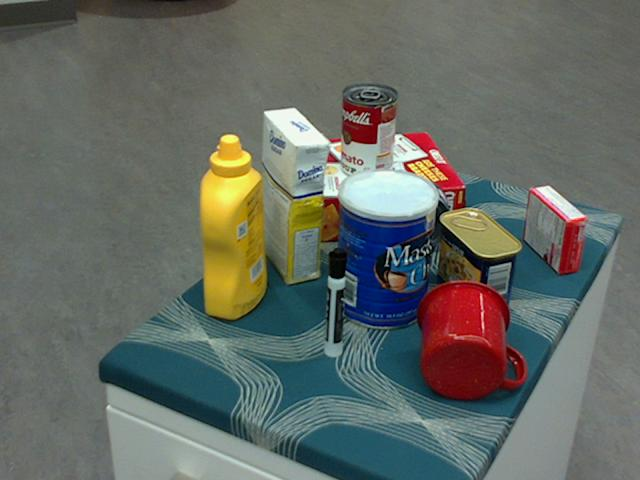cracker_box: (272, 131, 464, 247)
gelatin_box: (523, 185, 587, 274)
large_marker: (324, 247, 345, 359)
master_chef_can: (336, 168, 439, 330)
mug: (417, 278, 524, 399)
mustard_bottle: (198, 135, 267, 320)
potted_meat_can: (437, 208, 522, 317)
sugar_box: (260, 109, 327, 286)
tomato_soup_can: (341, 84, 397, 181)
tuna_fish_can: (377, 177, 451, 250)
